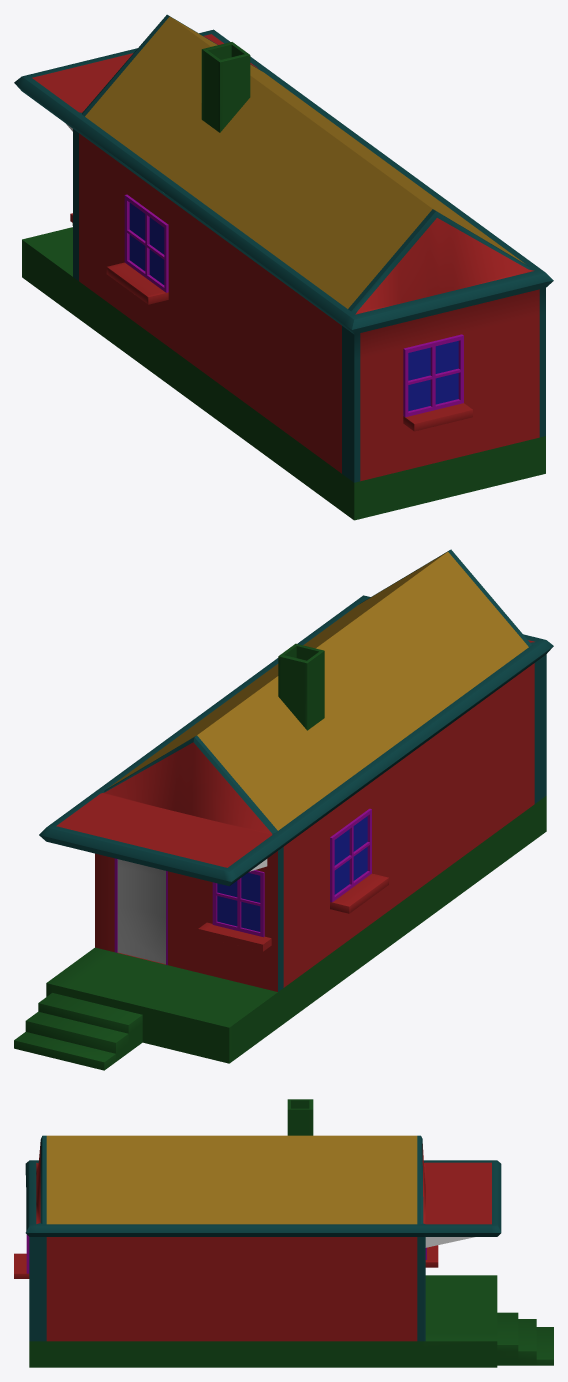
Rendered from dom02.FBX.
3 renders of one model, top to bottom at view 1: azimuth 30°, elevation 25°; view 2: azimuth 150°, elevation 25°; view 3: azimuth 270°, elevation 25°, orthographic. The views are drawn at different scales.
Parts seen in each view (by area): view 1: Box001; view 2: Box001; view 3: Box001.
Part boxes in pixels (box(x1,y1,x2,y2)): Box001: box(14, 14, 553, 520); Box001: box(14, 549, 553, 1070); Box001: box(14, 1099, 553, 1367).
Size of the model in its own units: 227 by 311 by 692.
